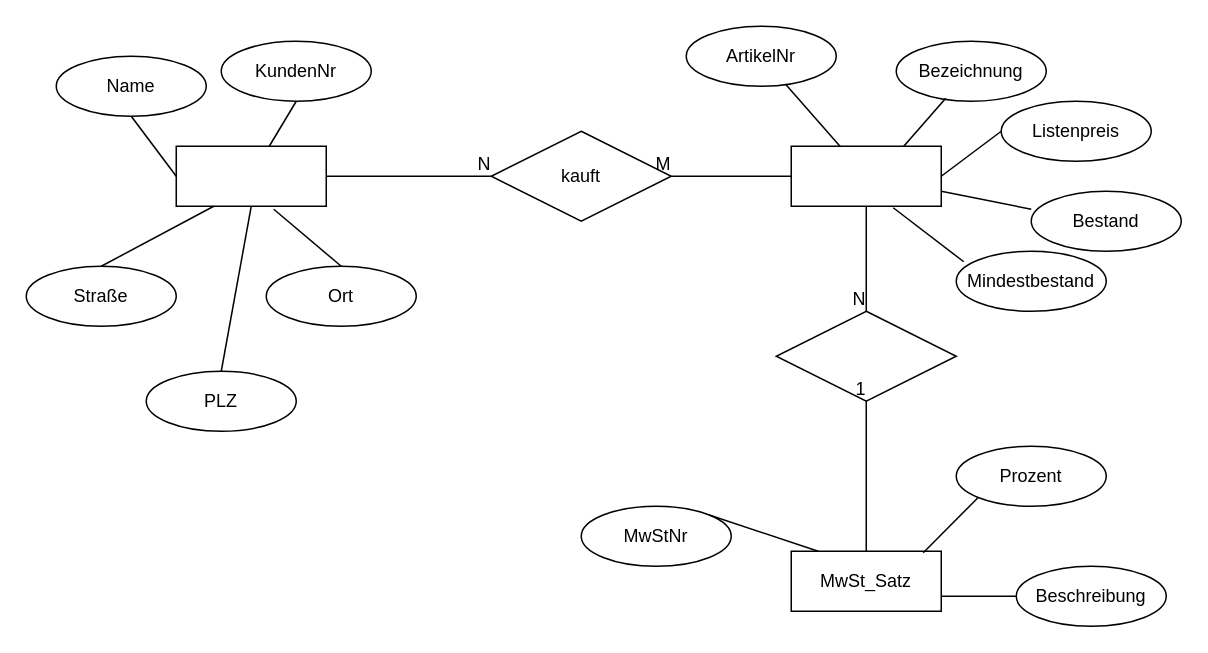
The diagram is 1208 pixels wide and 653 high, and some of its shapes have lost their labels. Here are the shapes that lost their labels. From the top down, the box of each, then its label:
(175, 145, 326, 206): Kunde
(790, 145, 941, 206): Artikel
(775, 310, 956, 401): hat
